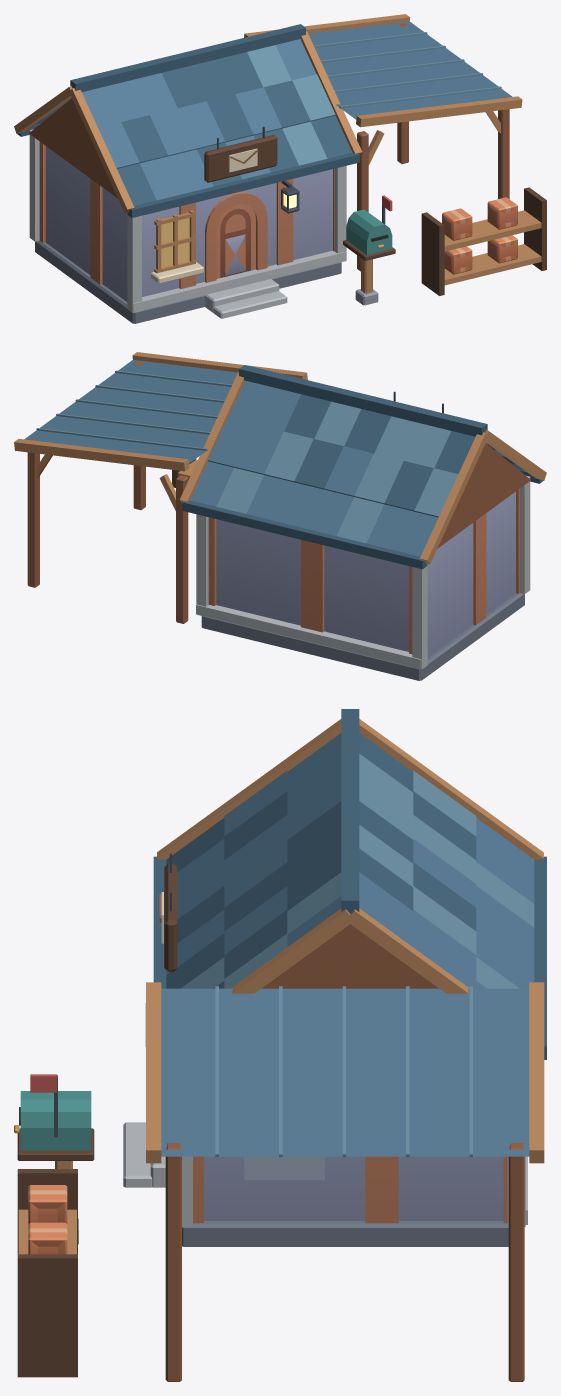
The model's file is station.glb.
3 renders of one model, top to bottom at view 1: azimuth 30°, elevation 25°; view 2: azimuth 150°, elevation 25°; view 3: azimuth 270°, elevation 25°, orthographic. The views are drawn at different scales.
Visible parts, largest first — view 1: station_建筑共用调色板.026, station_fantasy-town-kit 调色板, station_survival-kit 调色板; view 2: station_建筑共用调色板.026, station_fantasy-town-kit 调色板; view 3: station_建筑共用调色板.026, station_fantasy-town-kit 调色板, station_survival-kit 调色板.
Boxes of the visible parts, left/top/right/bottom form: station_建筑共用调色板.026: left=14, top=14, right=546, bottom=323; station_fantasy-town-kit 调色板: left=39, top=141, right=334, bottom=301; station_survival-kit 调色板: left=442, top=197, right=517, bottom=274; station_建筑共用调色板.026: left=14, top=352, right=546, bottom=680; station_fantasy-town-kit 调色板: left=208, top=488, right=519, bottom=657; station_建筑共用调色板.026: left=14, top=709, right=546, bottom=1381; station_fantasy-town-kit 调色板: left=193, top=1156, right=507, bottom=1223; station_survival-kit 调色板: left=28, top=1185, right=67, bottom=1254.
Size of the model in its own units: 7.65 by 3.88 by 5.29.
Materials: 4 (3 with a texture image).
